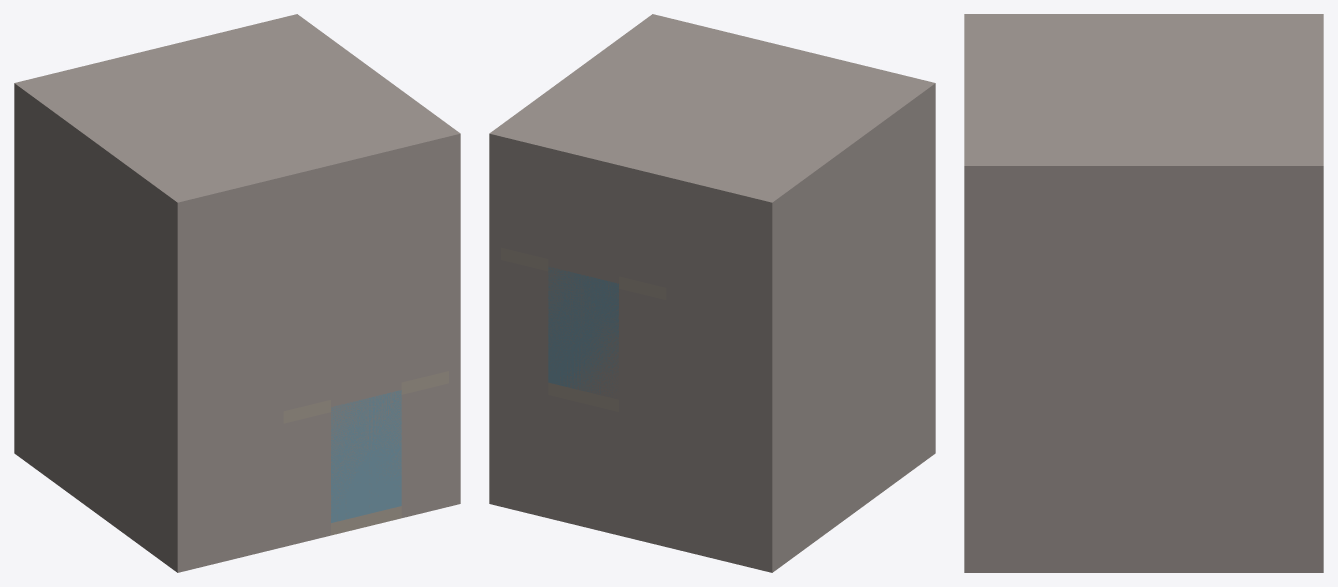
The model's file is creek-falls.glb.
3 renders of one model, left to right at view 1: azimuth 30°, elevation 25°; view 2: azimuth 150°, elevation 25°; view 3: azimuth 270°, elevation 25°, orthographic. The views are drawn at different scales.
Visible parts, largest first — view 1: rock_45, rock_3, rock_16, rock_39, plug_creek_south, rock_7, rock_18, water_4, rock_42, rock_40, rock_24, rock_12 (+13 smaller); view 2: rock_45, rock_1, rock_3, rock_16, rock_39, plug_creek_north, rock_14, rock_37, rock_8, rock_2, water_5, plug_creek_north.001 (+8 smaller); view 3: rock_45, rock_15, rock_38, rock_2, rock_6.
Part boxes in pixels (<box>): rock_45: <box>14,14,460,214</box>; rock_3: <box>34,333,212,572</box>; rock_16: <box>21,199,212,436</box>; rock_39: <box>21,100,212,313</box>; plug_creek_south: <box>283,284,448,410</box>; rock_7: <box>213,411,283,564</box>; rock_18: <box>213,288,283,428</box>; water_4: <box>331,390,401,522</box>; rock_42: <box>331,160,401,276</box>; rock_40: <box>260,177,330,293</box>; rock_24: <box>283,247,448,324</box>; rock_12: <box>283,412,330,546</box>; rock_45: <box>489,14,935,214</box>; rock_1: <box>619,400,792,572</box>; rock_3: <box>792,318,935,557</box>; rock_16: <box>779,194,935,431</box>; rock_39: <box>779,96,935,308</box>; plug_creek_north: <box>501,161,666,287</box>; rock_14: <box>666,288,778,436</box>; rock_37: <box>666,189,778,313</box>; rock_8: <box>548,395,618,535</box>; rock_2: <box>489,368,548,517</box>; water_5: <box>548,266,618,395</box>; plug_creek_north.001: <box>548,259,618,399</box>; rock_45: <box>964,14,1323,179</box>; rock_15: <box>964,288,1323,423</box>; rock_38: <box>964,179,1323,287</box>; rock_2: <box>1129,423,1323,572</box>; rock_6: <box>964,423,1128,572</box>.
Size of the model in its own units: 12 by 15 by 12.
